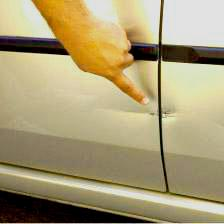door_dent: (97, 75, 185, 144)
